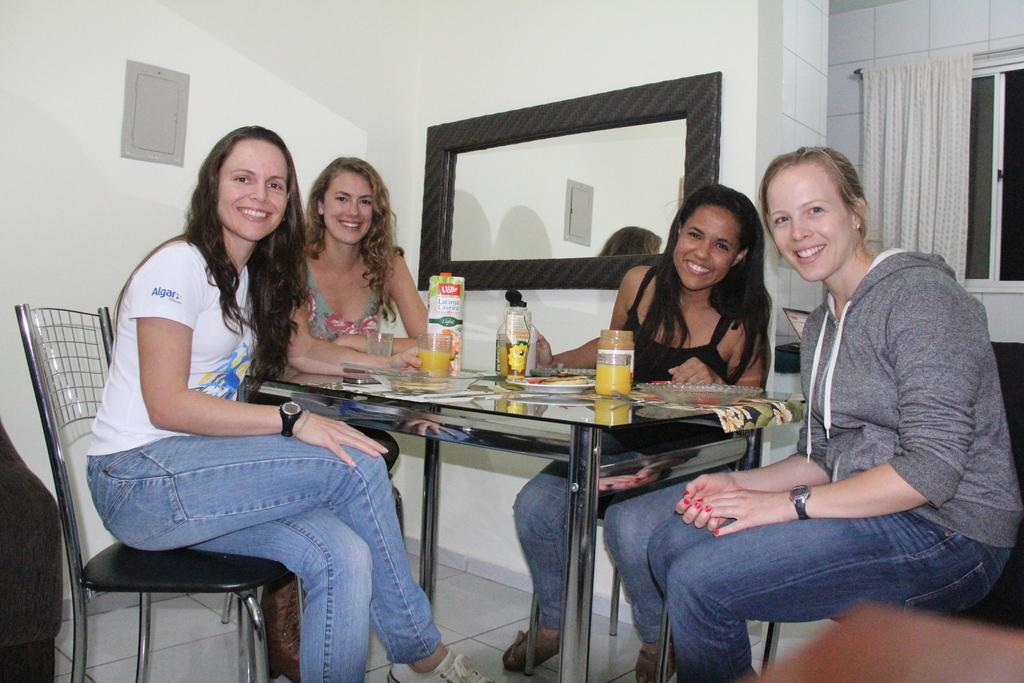Sem Máscara: (763, 164, 853, 282), (217, 138, 285, 238), (672, 203, 738, 286), (319, 166, 371, 243)
